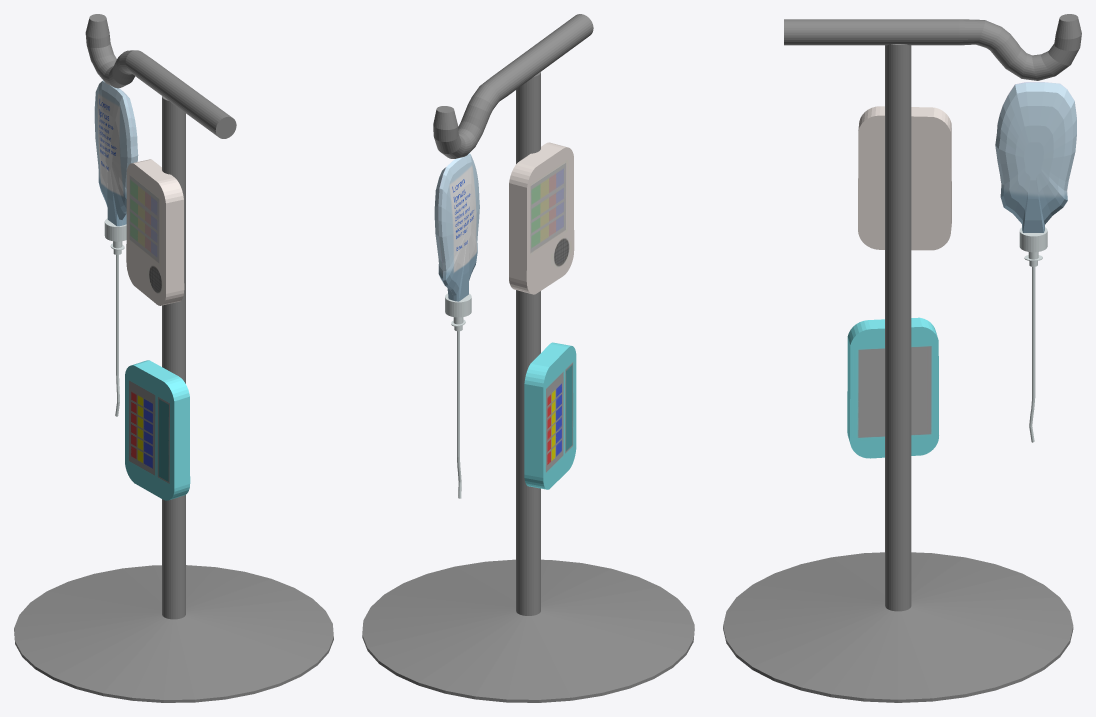
File: IVBag Holder.obj
The picture shows the model from 3 angles, left to right: view 1: azimuth 30°, elevation 25°; view 2: azimuth 150°, elevation 25°; view 3: azimuth 270°, elevation 25°; orthographic projection. The views are drawn at different scales.
Visible parts, largest first — view 1: Cylinder, Cylinder.002, Cylinder.001, Circle; view 2: Cylinder, Cylinder.001, Cylinder.002, Circle; view 3: Cylinder, Circle, Cylinder.001, Cylinder.002.
Boxes of the visible parts, x1=… form: Cylinder: x1=14, y1=14, x2=333, y2=702; Cylinder.002: x1=125, y1=360, x2=190, y2=500; Cylinder.001: x1=126, y1=159, x2=184, y2=305; Circle: x1=94, y1=80, x2=138, y2=416; Cylinder: x1=362, y1=14, x2=694, y2=702; Cylinder.001: x1=509, y1=142, x2=574, y2=294; Cylinder.002: x1=524, y1=342, x2=576, y2=489; Circle: x1=434, y1=153, x2=479, y2=498; Cylinder: x1=723, y1=14, x2=1081, y2=702; Circle: x1=995, y1=82, x2=1076, y2=442; Cylinder.001: x1=858, y1=106, x2=951, y2=250; Cylinder.002: x1=847, y1=317, x2=938, y2=458.
Bounding box in the file's own units: 2 × 3.86 × 2.05.
